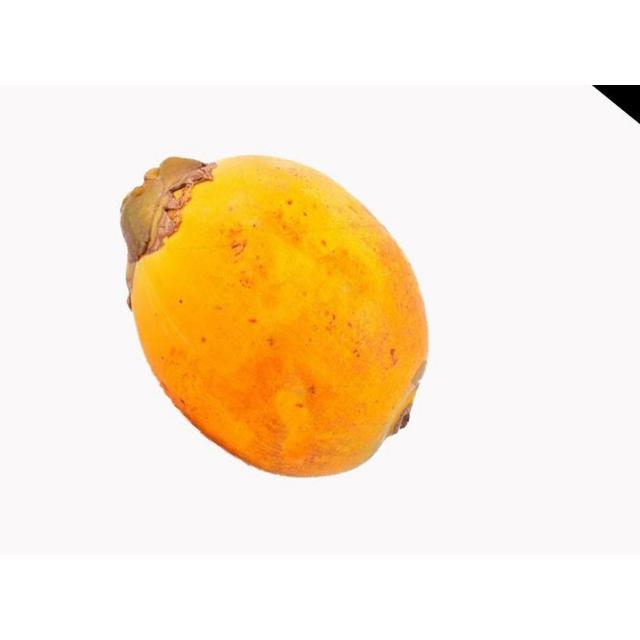good: (119, 155, 431, 480)
